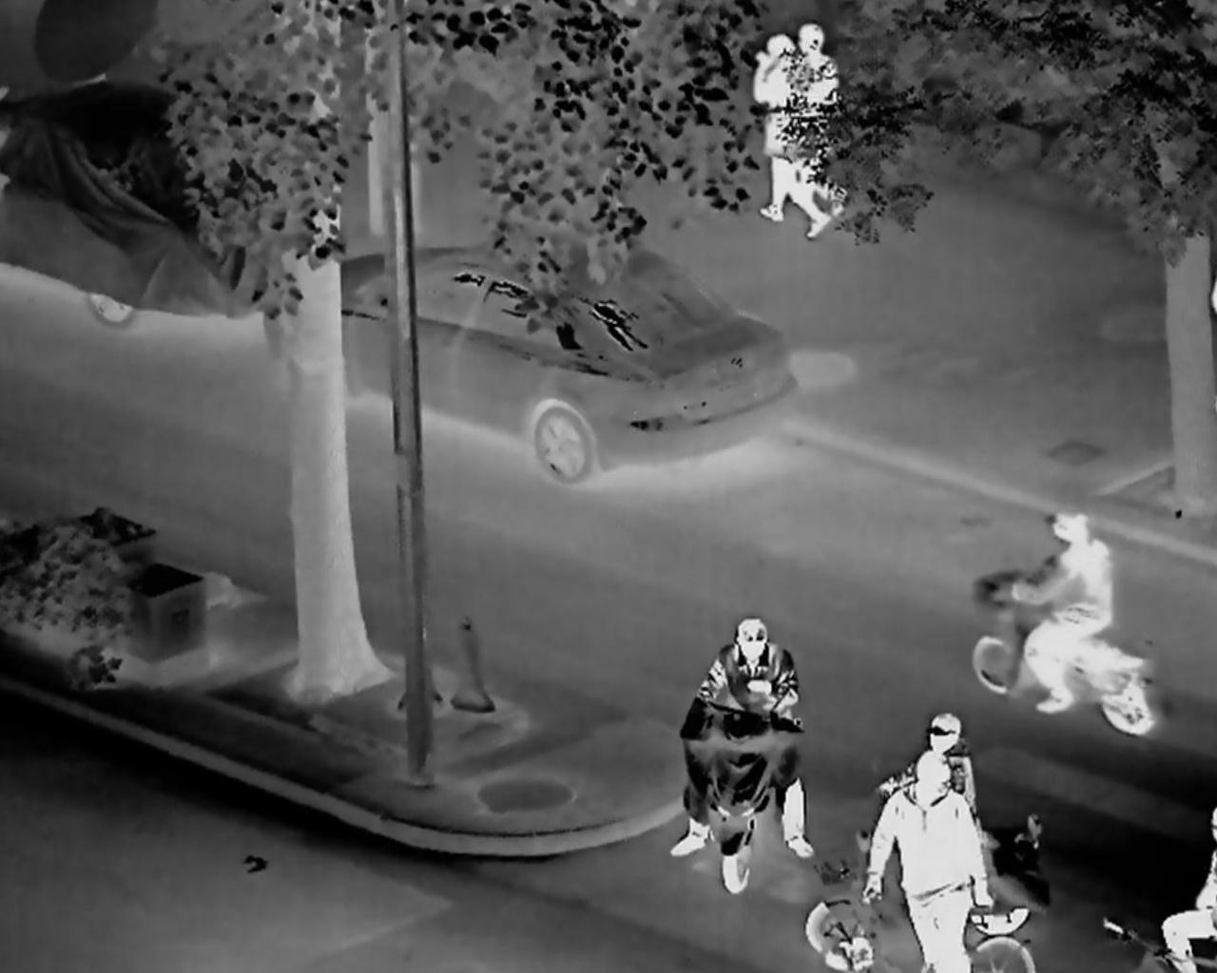person: (670, 608, 823, 886), (862, 755, 1001, 973), (1006, 500, 1121, 722), (751, 34, 849, 256), (882, 713, 972, 823)
